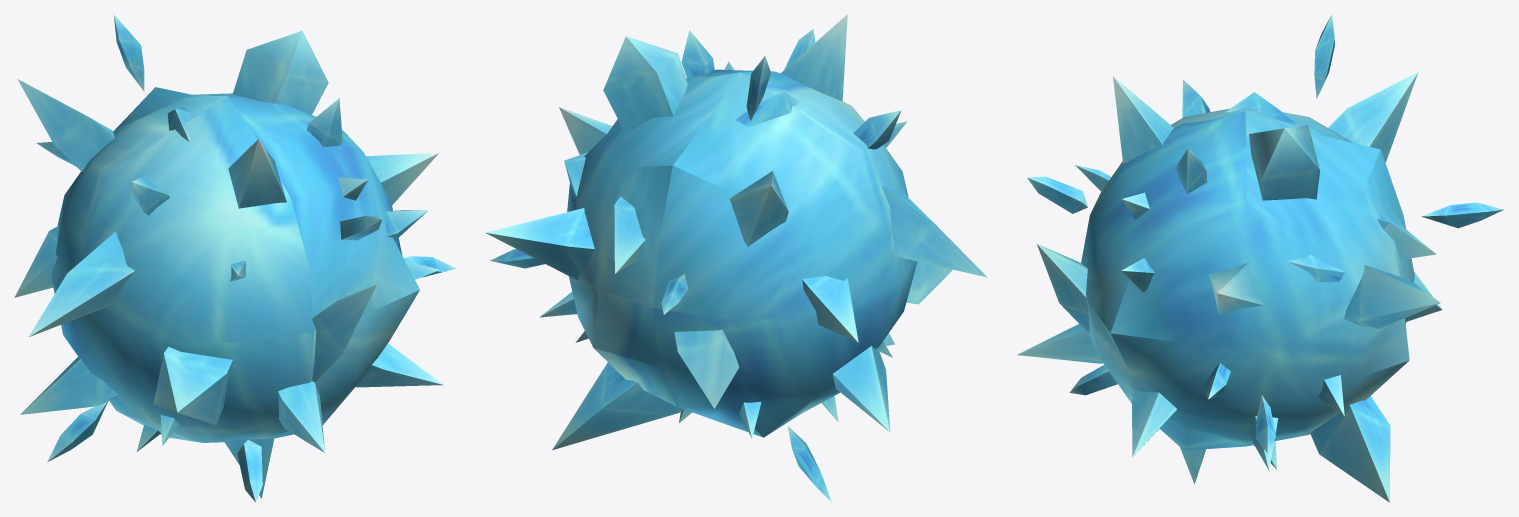
The model's file is warp_freeze.fbx.
3 renders of one model, left to right at view 1: azimuth 30°, elevation 25°; view 2: azimuth 150°, elevation 25°; view 3: azimuth 270°, elevation 25°, orthographic. The views are drawn at different scales.
Visible parts, largest first — view 1: warp_freeze; view 2: warp_freeze; view 3: warp_freeze.
Boxes of the visible parts, left/top/right/bottom form: warp_freeze: left=14, top=14, right=456, bottom=502; warp_freeze: left=485, top=14, right=987, bottom=502; warp_freeze: left=1017, top=14, right=1503, bottom=502.
Bounding box in the file's own units: 35.97 × 33.46 × 34.04.
Materials: 1 (1 with a texture image).
